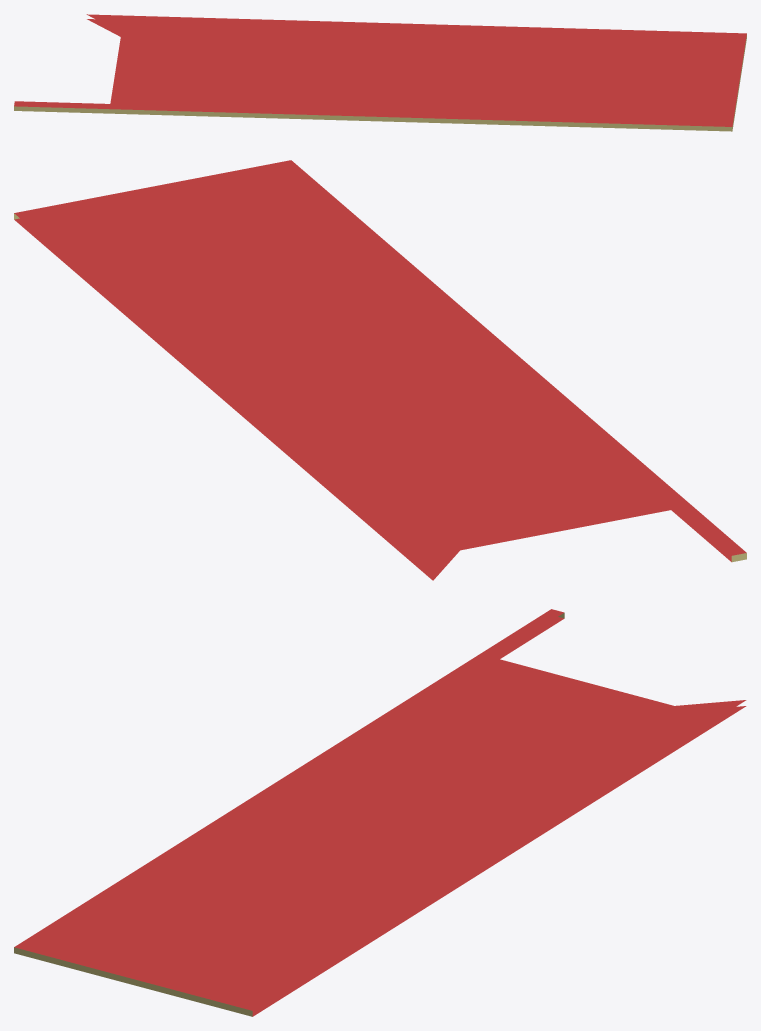
The picture shows the model from 3 angles, top to bottom: view 1: azimuth 30°, elevation 25°; view 2: azimuth 150°, elevation 25°; view 3: azimuth 270°, elevation 25°; orthographic projection. The views are drawn at different scales.
Parts seen in each view (by area): view 1: group_3, group_4; view 2: group_3, group_5; view 3: group_3, group_5, group_4.
Part boxes in pixels (x1=…): group_3: x1=14, y1=14, x2=746, y2=126; group_4: x1=14, y1=34, x2=746, y2=131; group_3: x1=14, y1=160, x2=746, y2=573; group_5: x1=14, y1=218, x2=731, y2=580; group_3: x1=14, y1=609, x2=746, y2=1010; group_5: x1=252, y1=617, x2=746, y2=1016; group_4: x1=14, y1=613, x2=564, y2=1016.
Bounding box in the file's own units: 14.45 × 11.03 × 0.168.
